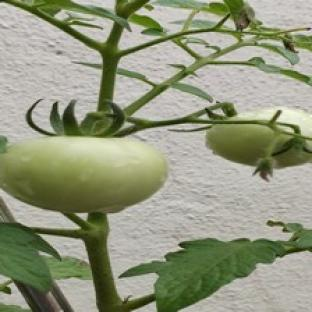Tomato: (0, 137, 168, 213), (207, 124, 311, 168)
